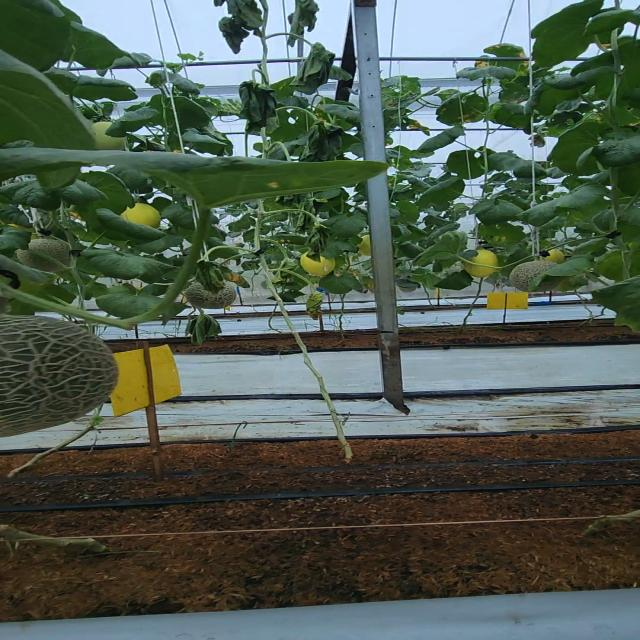Front-melon: (0, 311, 119, 437)
Rear-melon: (468, 250, 504, 277), (298, 257, 336, 277)
